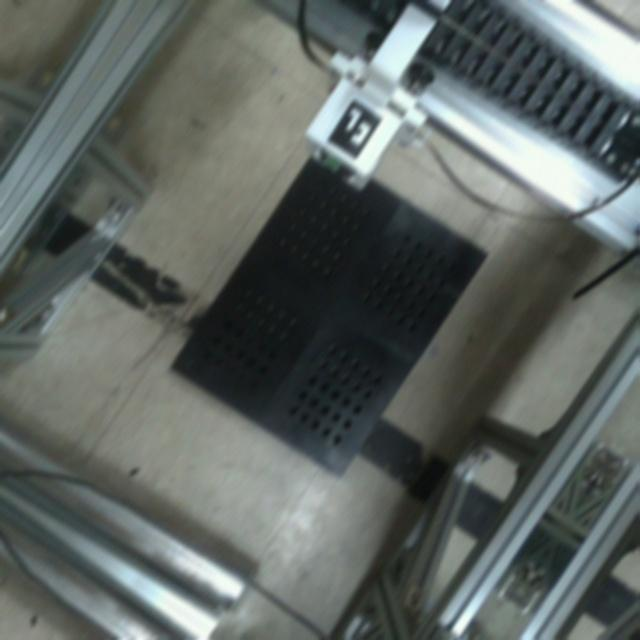pallet: (165, 135, 499, 486)
